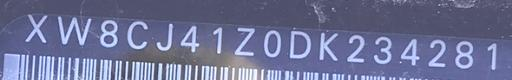letter: (55, 13, 93, 48), (286, 26, 314, 62), (232, 23, 258, 59), (24, 12, 50, 43), (124, 20, 150, 51), (316, 29, 340, 61), (178, 23, 202, 53), (343, 33, 367, 63), (398, 36, 422, 65), (153, 20, 175, 51), (371, 33, 393, 64), (426, 37, 448, 68), (261, 29, 283, 59), (98, 17, 118, 48), (454, 38, 474, 68), (483, 39, 501, 70), (209, 22, 225, 54)
